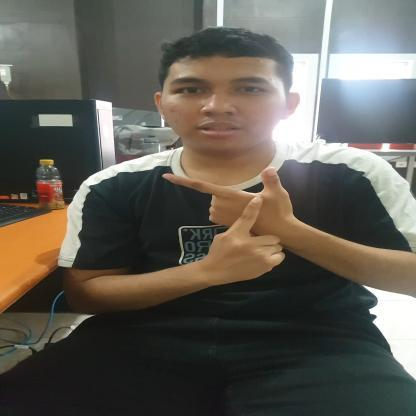Y: (160, 166, 295, 278)
